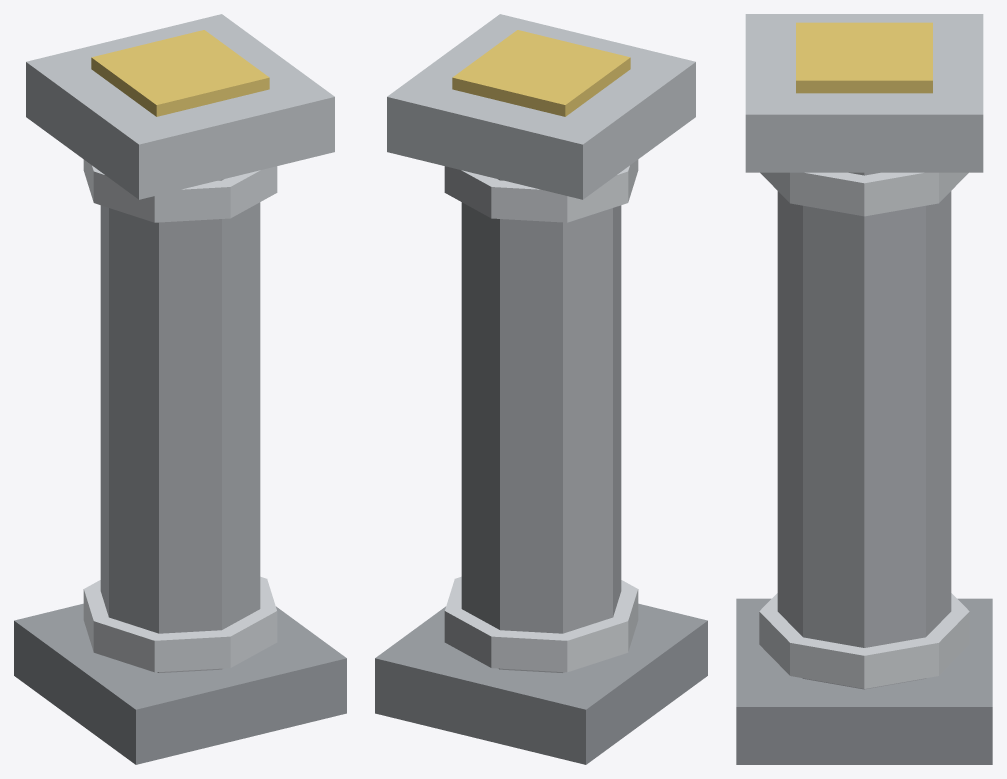
Rendered from pillar.glb.
3 views of the same model, side by side, from view 1: azimuth 30°, elevation 25°; view 2: azimuth 150°, elevation 25°; view 3: azimuth 270°, elevation 25° (orthographic). The views are drawn at different scales.
Parts seen in each view (by area): view 1: shaft, capital, foot, cap_trim, ring_low, ring_high; view 2: shaft, capital, foot, cap_trim, ring_low, ring_high; view 3: shaft, capital, foot, cap_trim, ring_low, ring_high.
Boxes of the visible parts, x1,y1,x2,y2 form: shaft: (100,179,260,672); capital: (26,14,334,199); foot: (14,603,346,764); cap_trim: (91,30,269,116); ring_low: (83,576,277,672); ring_high: (83,159,277,222); shaft: (461,179,621,672); capital: (387,14,695,199); foot: (375,603,707,764); cap_trim: (452,30,630,116); ring_low: (444,576,638,672); ring_high: (444,159,638,222); shaft: (777,172,951,689); capital: (745,14,983,172); foot: (736,598,992,764); cap_trim: (796,22,932,93); ring_low: (759,593,969,688); ring_high: (760,172,968,216).
Bounding box in the file's own units: 0.56 × 1.59 × 0.56.
